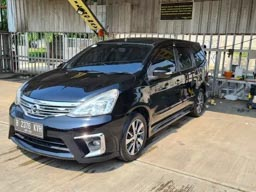plat: (15, 118, 43, 138)
